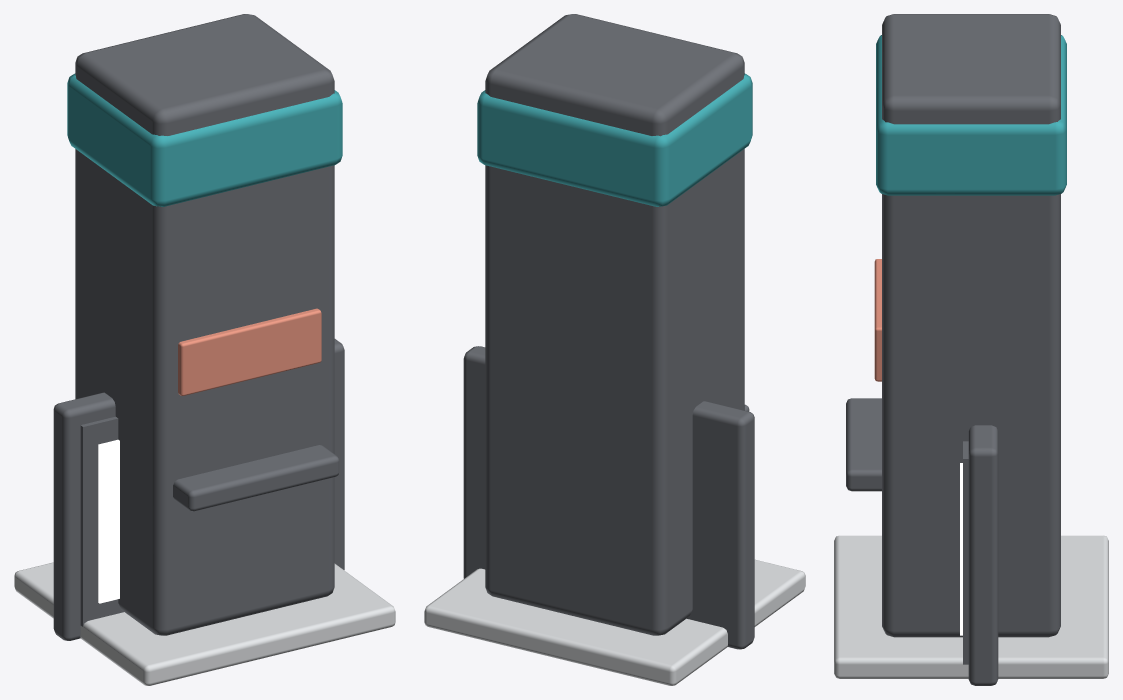
The model's file is public-aquarium-and-marine-centre-touchscreen-kiosk-6e93d8a4__34170.glb.
3 views of the same model, side by side, from view 1: azimuth 30°, elevation 25°; view 2: azimuth 150°, elevation 25°; view 3: azimuth 270°, elevation 25° (orthographic). The views are drawn at different scales.
Visible parts, largest first — view 1: touchscreen-kiosk, screen/frame, screen/light; view 2: touchscreen-kiosk, screen/frame; view 3: touchscreen-kiosk, screen/frame, screen/light.
Boxes of the visible parts, x1,y1,x2,y2 form: touchscreen-kiosk: (14,14,395,685); screen/frame: (53,339,344,640); screen/light: (98,439,119,603); touchscreen-kiosk: (424,14,805,685); screen/frame: (463,346,754,649); touchscreen-kiosk: (834,14,1108,678); screen/frame: (963,425,998,685); screen/light: (960,463,962,635).
Size of the model in its own units: 0.56 by 1.04 by 0.46.
